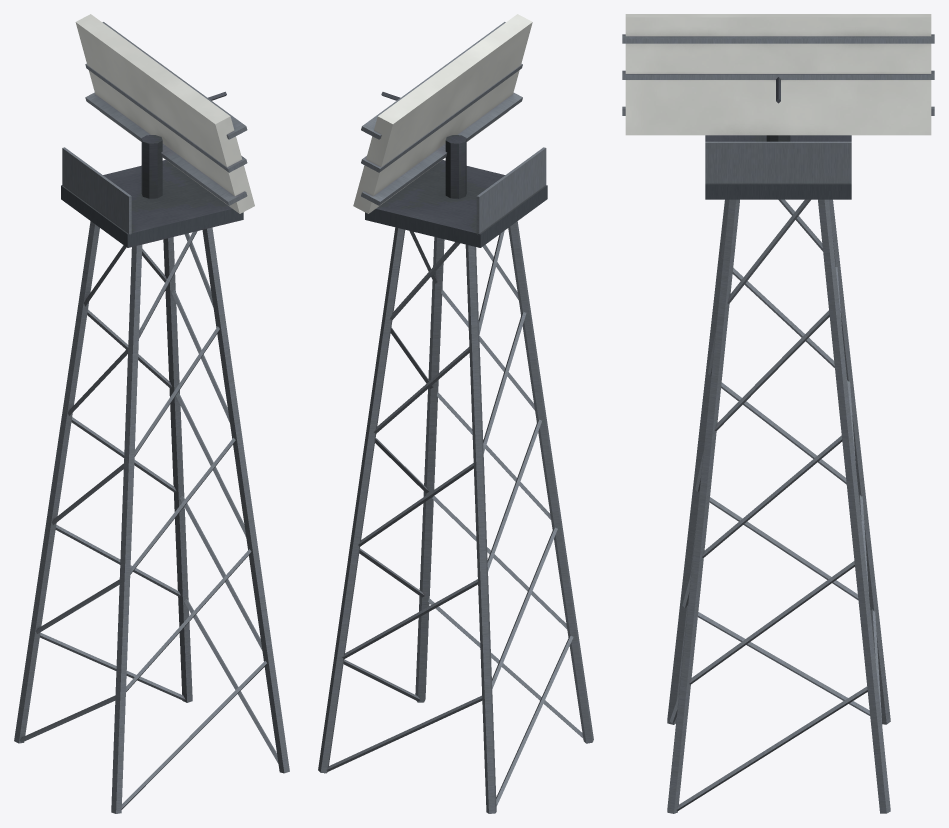
File: radar_tex.glb
The picture shows the model from 3 angles, left to right: view 1: azimuth 30°, elevation 25°; view 2: azimuth 150°, elevation 25°; view 3: azimuth 270°, elevation 25°; orthographic projection. The views are drawn at different scales.
Parts seen in each view (by area): view 1: Torn, Antenn; view 2: Torn, Antenn; view 3: Torn, Antenn.
Boxes of the visible parts, x1,y1,x2,y2 form: Torn: (14, 147, 289, 813); Antenn: (75, 14, 254, 213); Torn: (318, 147, 593, 813); Antenn: (353, 14, 532, 213); Torn: (667, 135, 890, 813); Antenn: (622, 14, 934, 141).
Size of the model in its own units: 3.37 by 12.54 by 4.7.
Materials: 3 (3 with a texture image).
